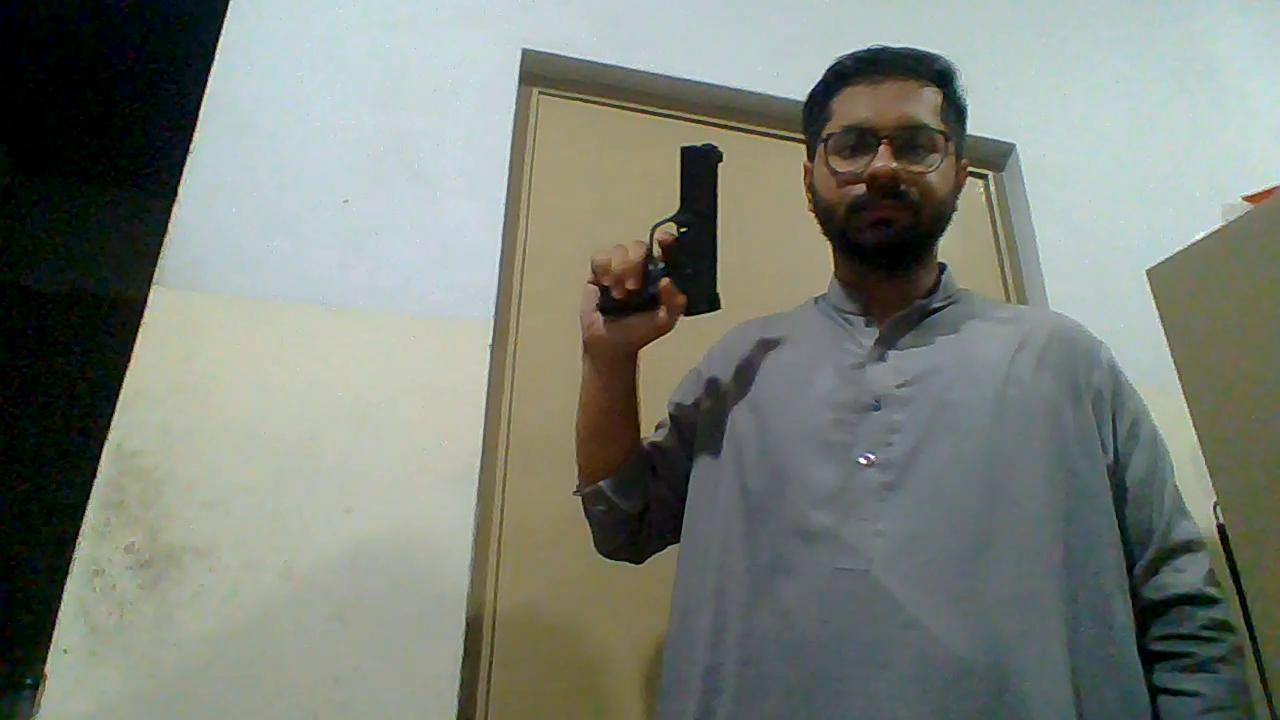criminal: (573, 43, 1253, 720)
weapon: (593, 142, 727, 324)
